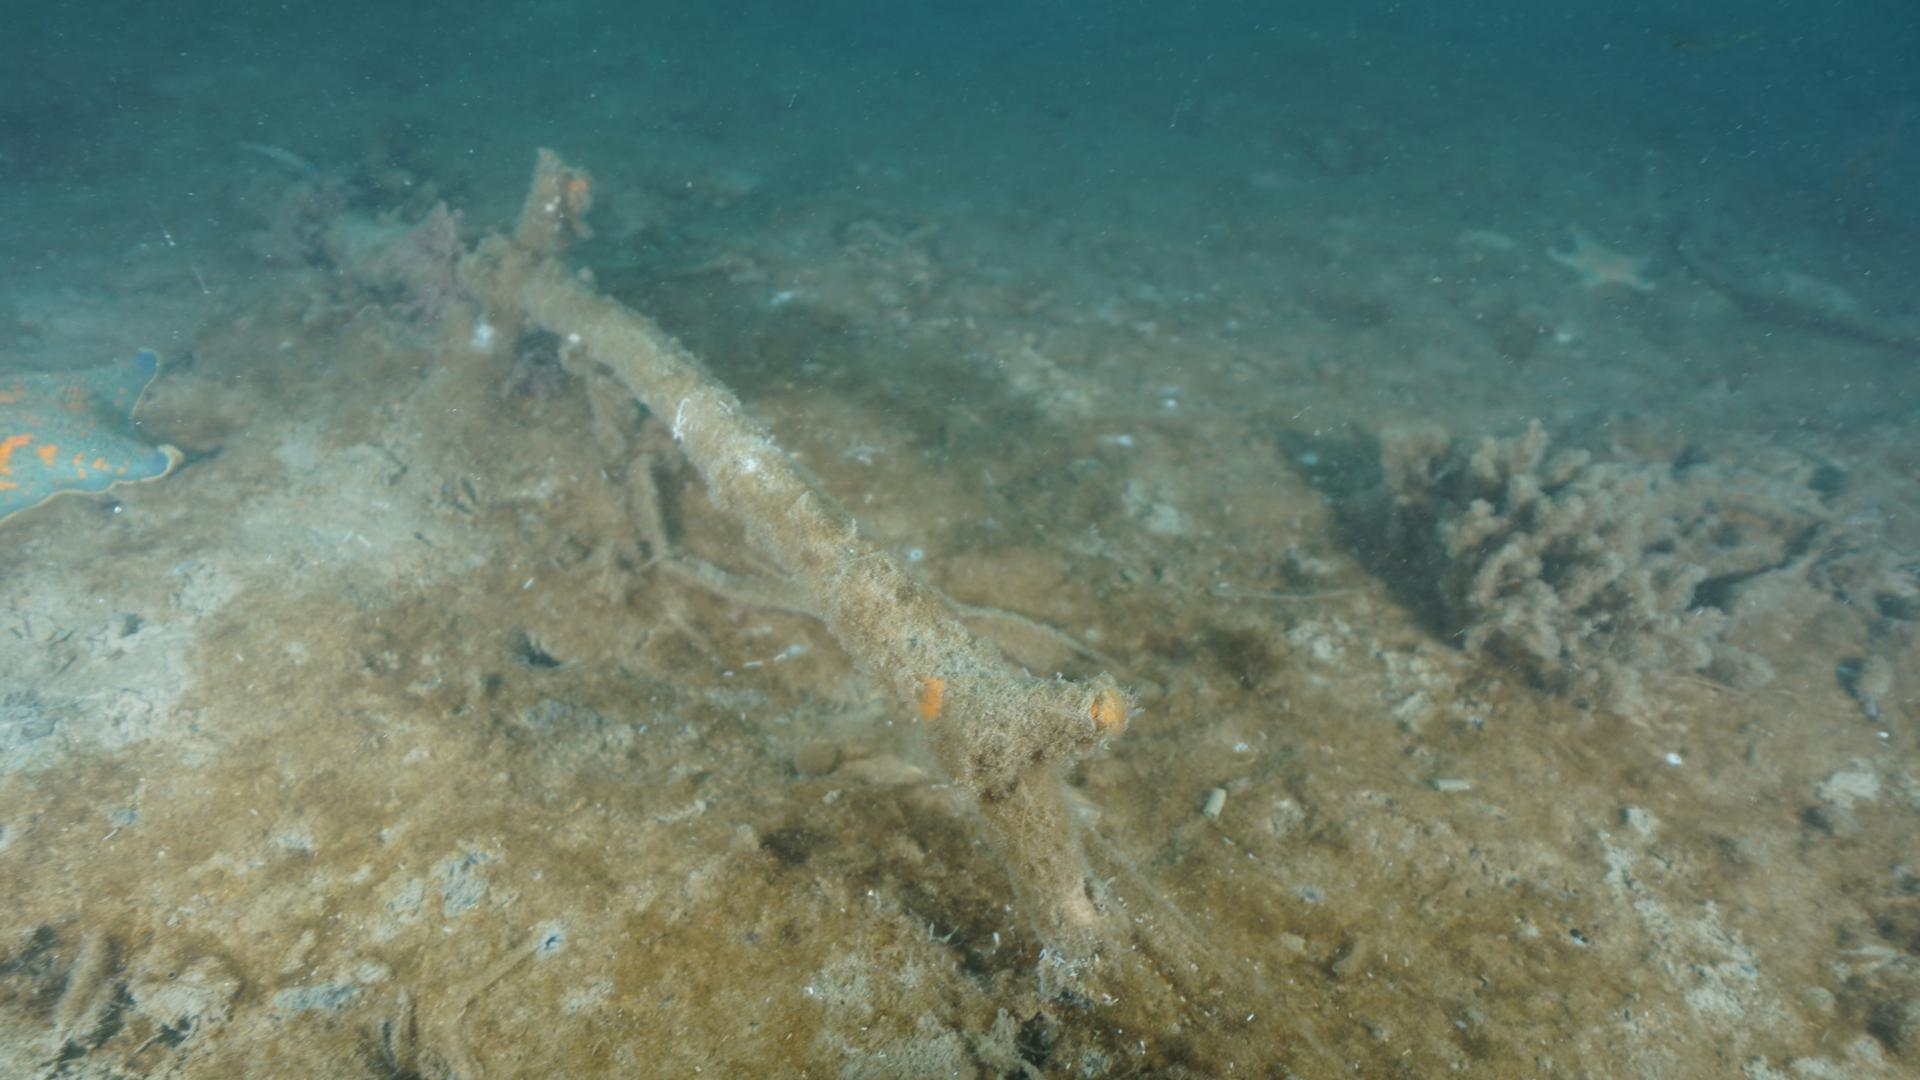wood: (320, 145, 1129, 956)
